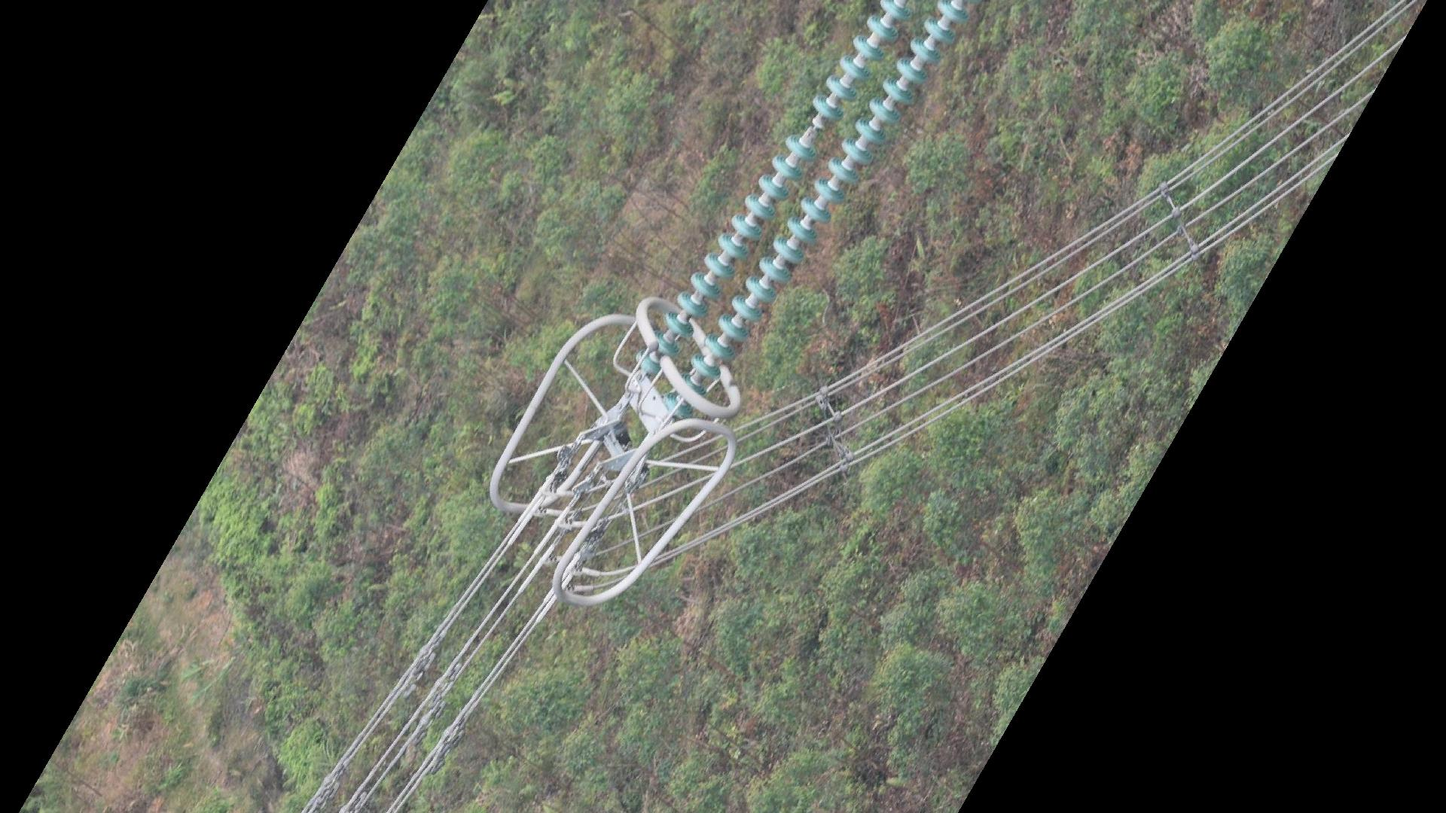insulator: (661, 1, 970, 422), (630, 1, 914, 380)
insulator_stringdrop: (782, 93, 847, 164)
